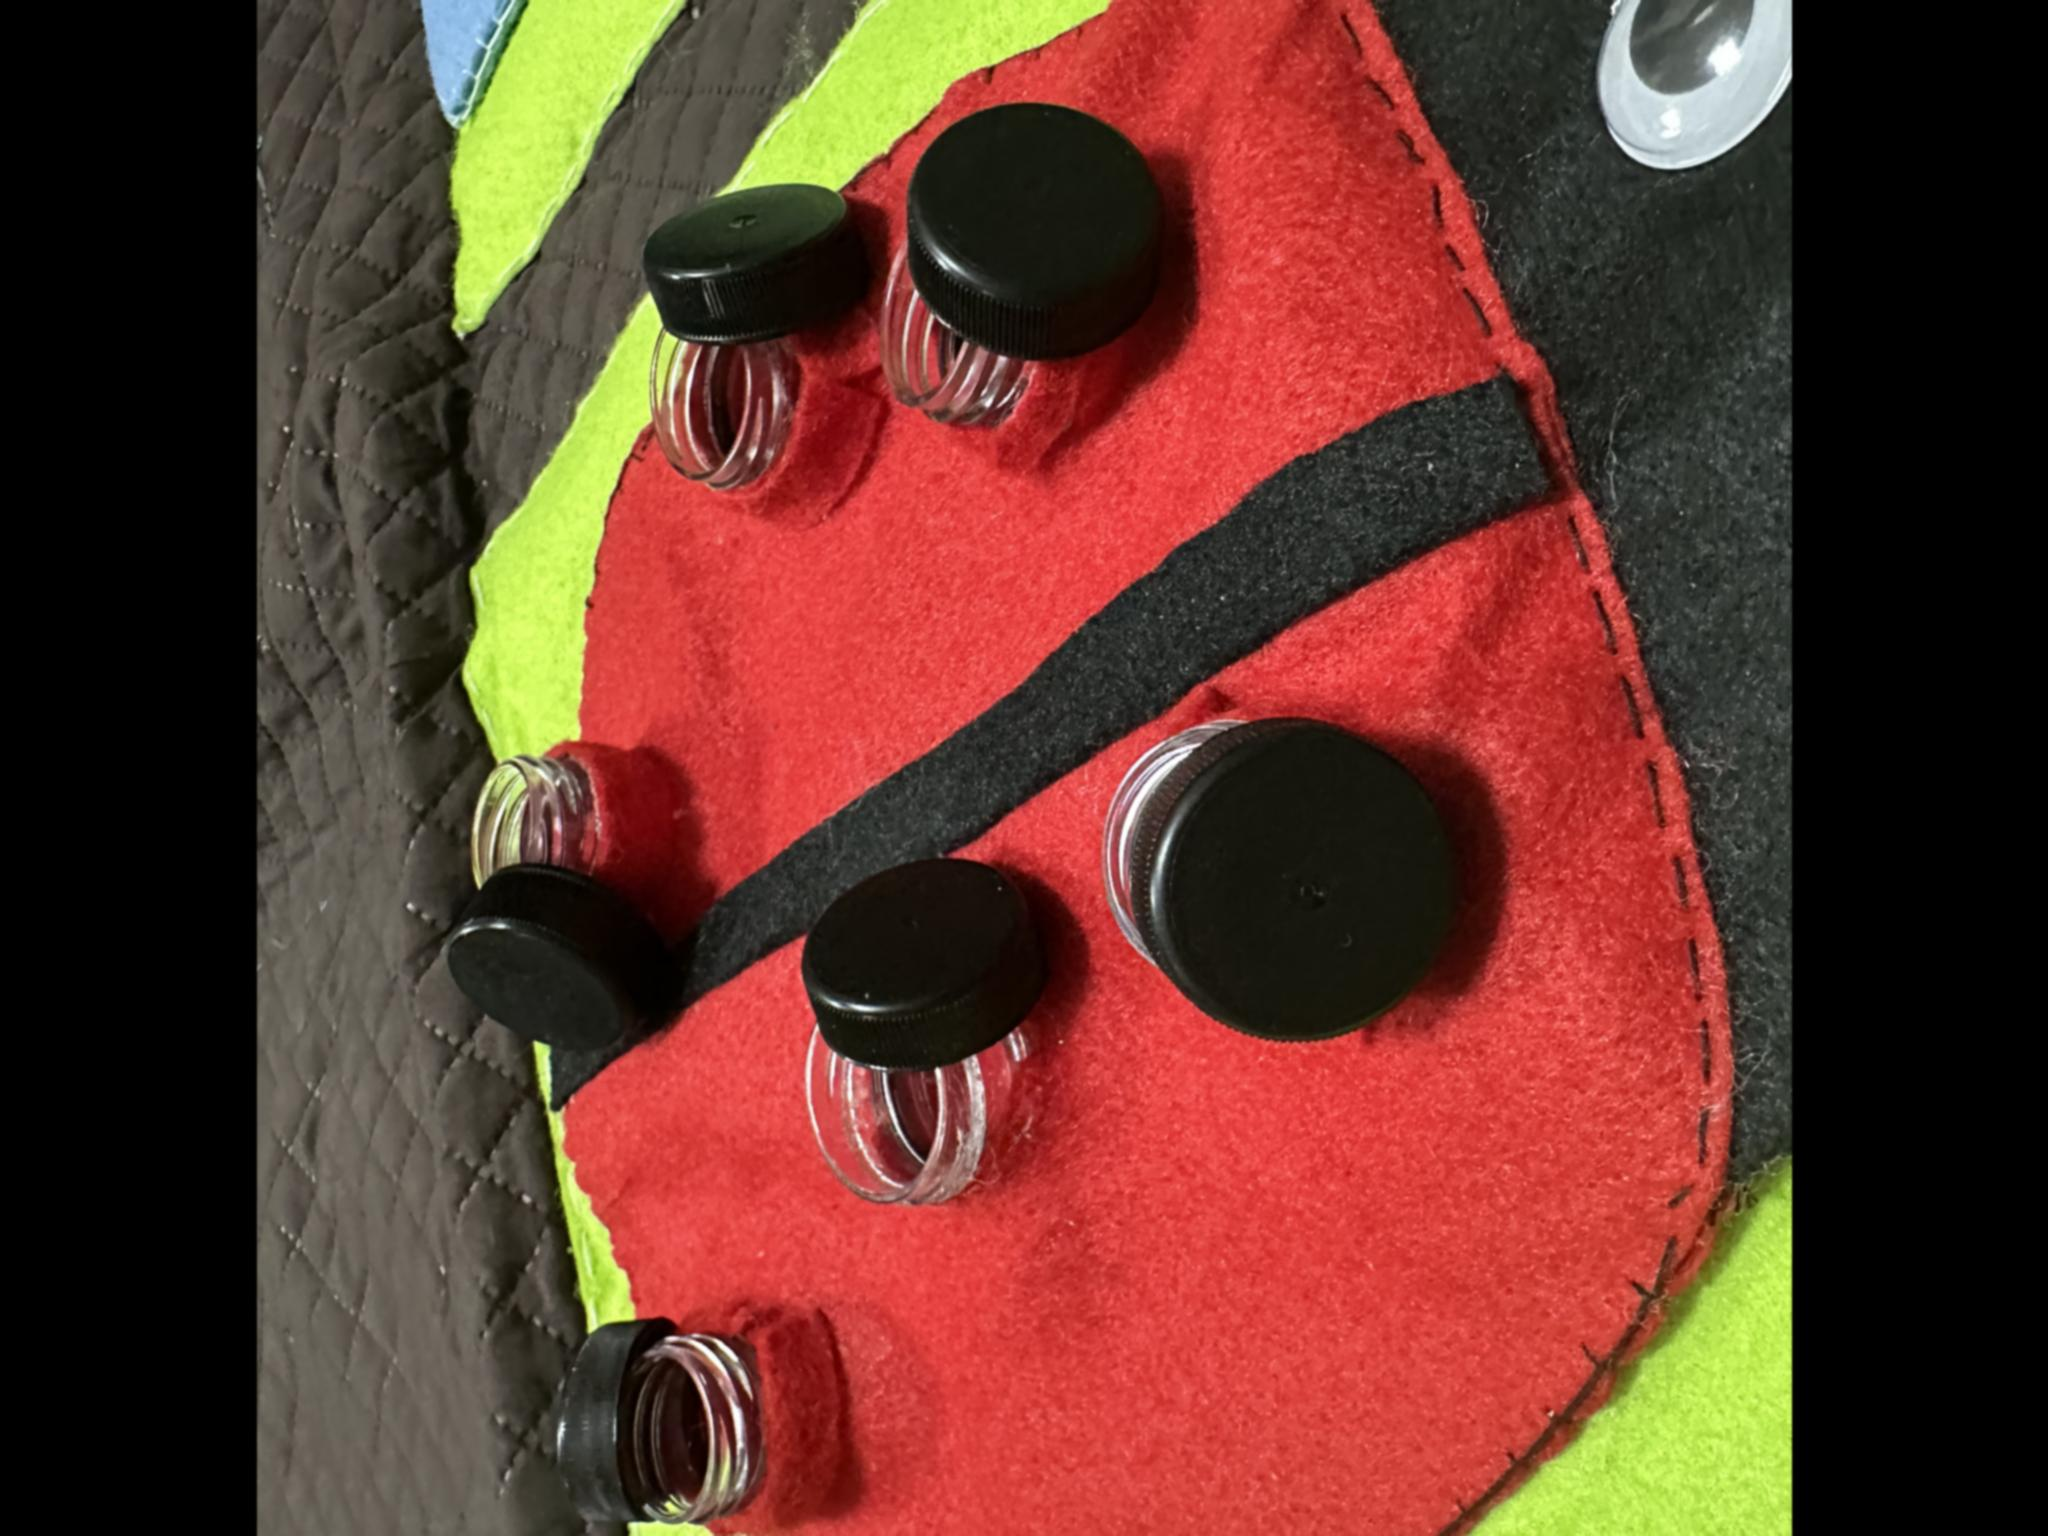cap_ng: (1092, 705, 1477, 1052), (877, 106, 1187, 466), (790, 850, 1063, 1223), (439, 734, 698, 1055), (627, 174, 874, 508), (543, 1291, 855, 1536)
